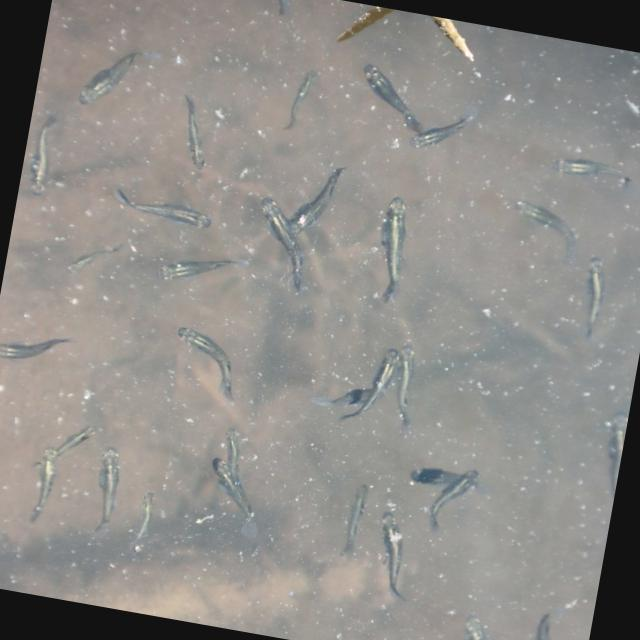Sivrisinek Baligi: (245, 196, 325, 294), (312, 334, 402, 418), (69, 39, 157, 119), (366, 194, 428, 306), (166, 318, 248, 399), (367, 506, 427, 600), (151, 240, 246, 298), (504, 194, 588, 258), (108, 178, 215, 226), (348, 54, 421, 124), (22, 108, 74, 201), (409, 104, 481, 164), (578, 252, 626, 342), (423, 464, 481, 538), (0, 319, 75, 376), (86, 440, 132, 532), (332, 478, 381, 562), (546, 144, 634, 188), (170, 92, 218, 170), (278, 64, 328, 138), (62, 234, 128, 288), (390, 345, 430, 430), (21, 446, 64, 525), (124, 484, 165, 556)
